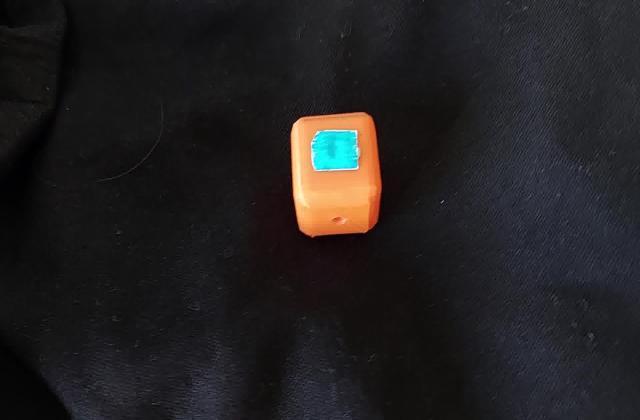blue: (320, 138, 352, 162)
sticker: (286, 106, 387, 240)
